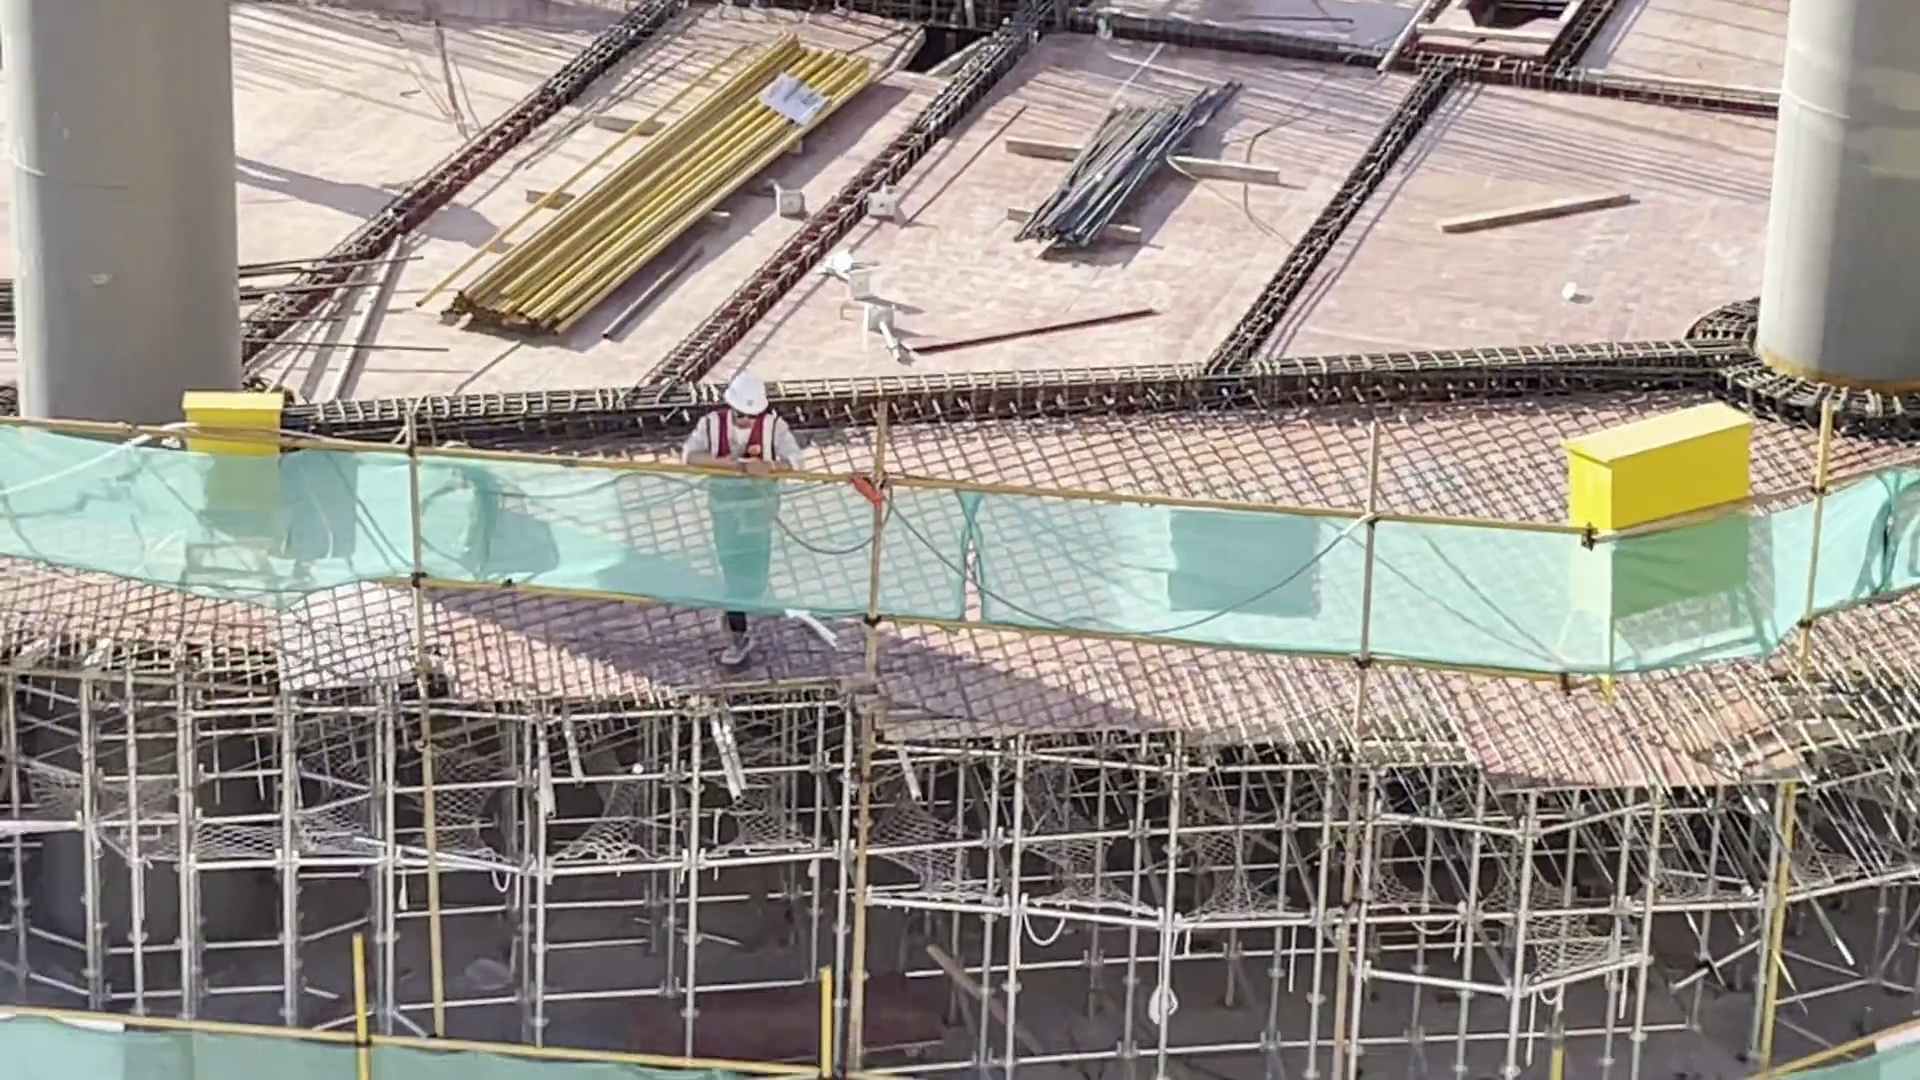ebox: (1562, 395, 1756, 594), (185, 390, 292, 541)
helmet: (726, 379, 768, 423)
person: (682, 380, 789, 676)
vest: (711, 415, 775, 519)
